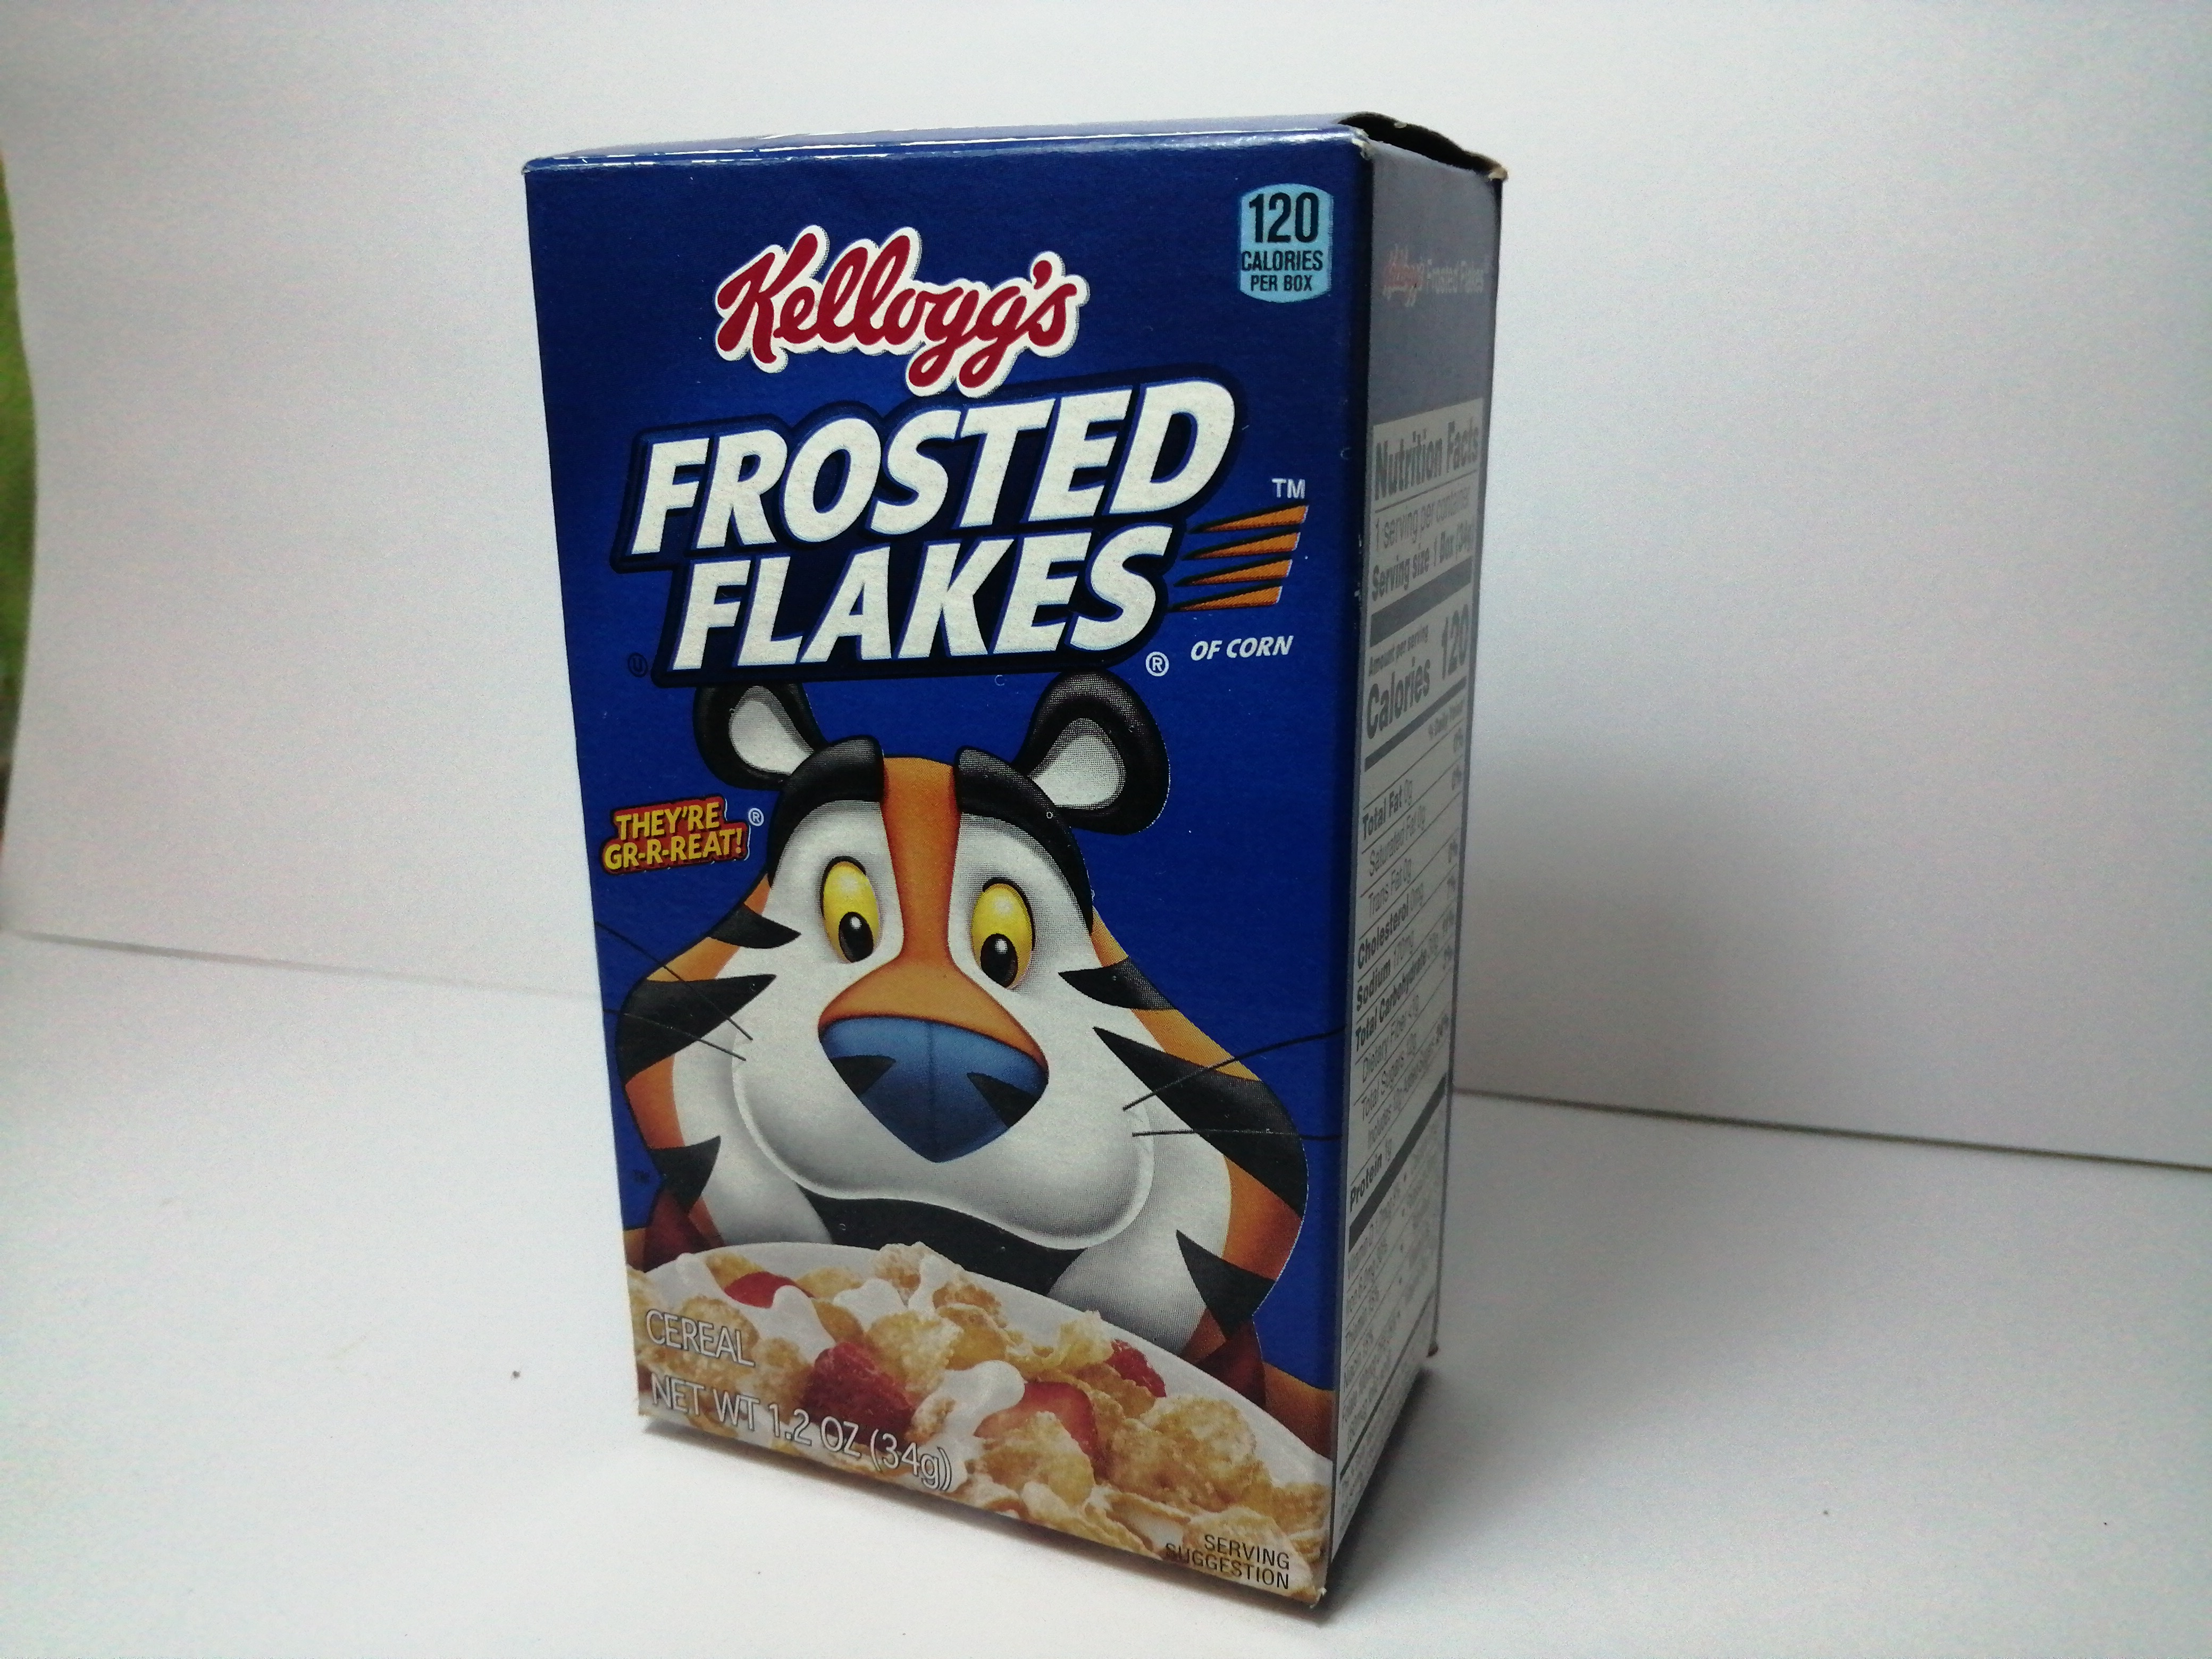cereal azucarado: (486, 92, 1580, 1615)
